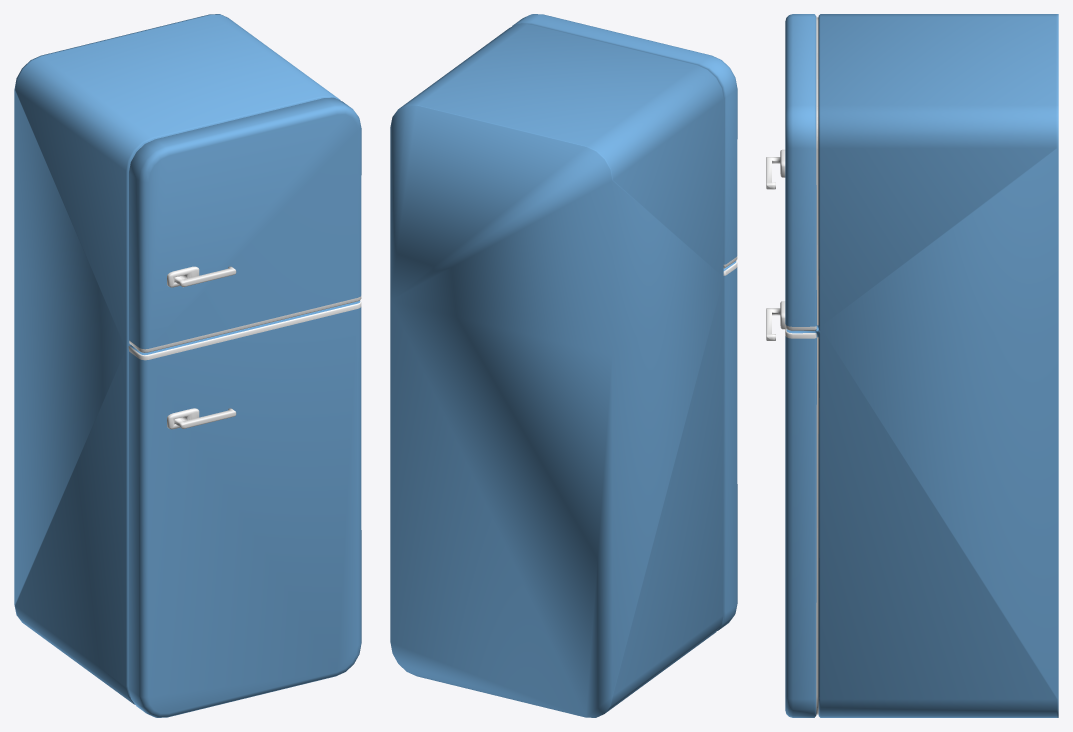
File: Refrigirator.fbx
3 renders of one model, left to right at view 1: azimuth 30°, elevation 25°; view 2: azimuth 150°, elevation 25°; view 3: azimuth 270°, elevation 25°, orthographic. The views are drawn at different scales.
Visible parts, largest first — view 1: Cube.008; view 2: Cube.008; view 3: Cube.008.
Part boxes in pixels (left/top/right/bottom): Cube.008: left=14, top=14, right=361, bottom=717; Cube.008: left=390, top=14, right=737, bottom=717; Cube.008: left=766, top=14, right=1058, bottom=717.
Size of the model in its own units: 2 by 4.92 by 2.14.
